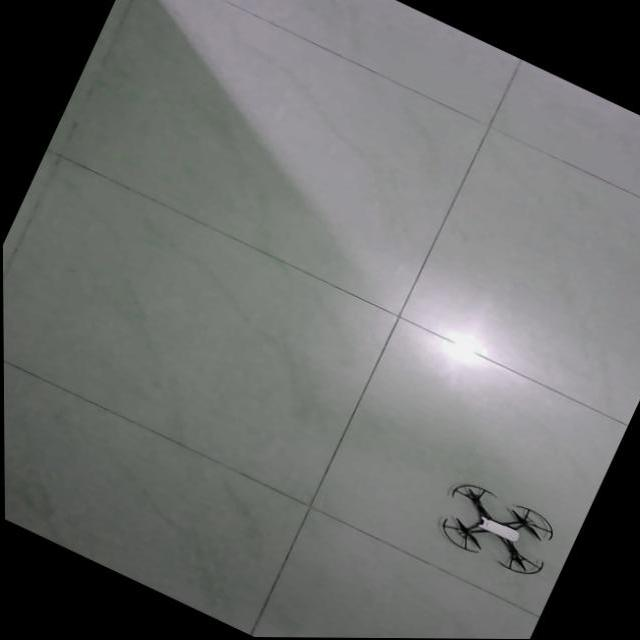drone: (440, 483, 553, 574)
